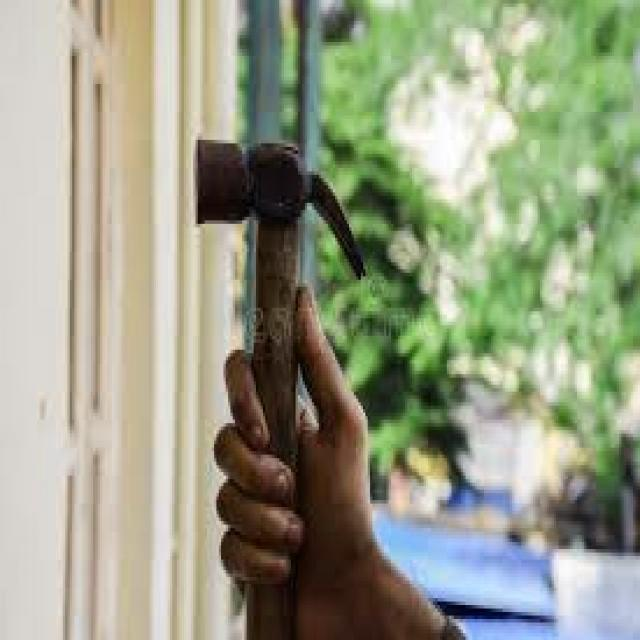hammer: (182, 133, 372, 640)
